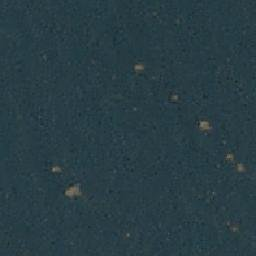debris: (226, 151, 246, 175), (64, 184, 83, 200), (198, 120, 211, 133), (132, 62, 145, 72), (50, 163, 62, 173)
